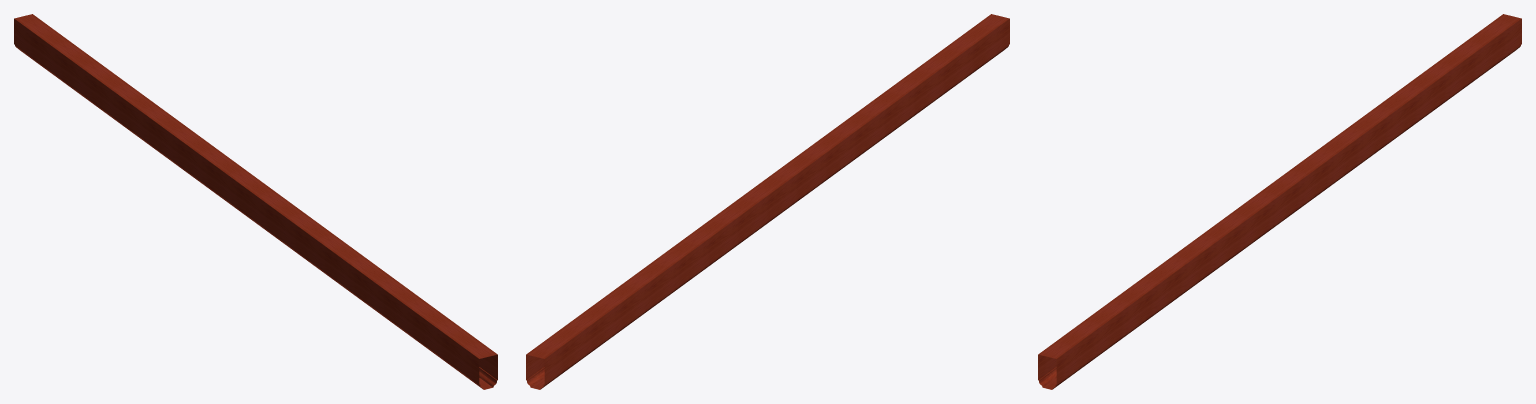
Rendered from dingzhu1.fbx.
3 views of the same model, side by side, from view 1: azimuth 30°, elevation 25°; view 2: azimuth 150°, elevation 25°; view 3: azimuth 330°, elevation 25° (orthographic).
Visible parts, largest first — view 1: dingzhu1; view 2: dingzhu1; view 3: dingzhu1.
Boxes of the visible parts, x1,y1,x2,y2 form: dingzhu1: (14,14,497,389); dingzhu1: (526,14,1009,389); dingzhu1: (1038,14,1521,389).
Bounding box in the file's own units: 0.7114 × 1.18 × 31.01.
1 material, 1 textured.
